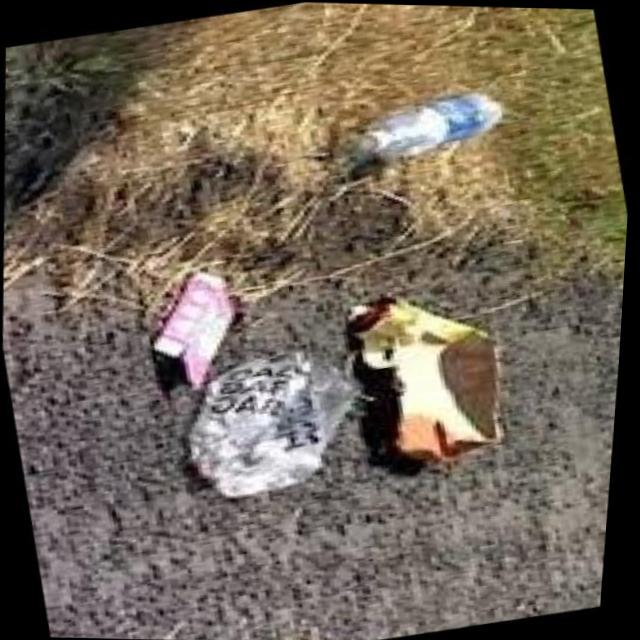leaf: (336, 72, 522, 169)
metal: (159, 334, 384, 526)
trash: (324, 272, 533, 486), (112, 254, 268, 388)
